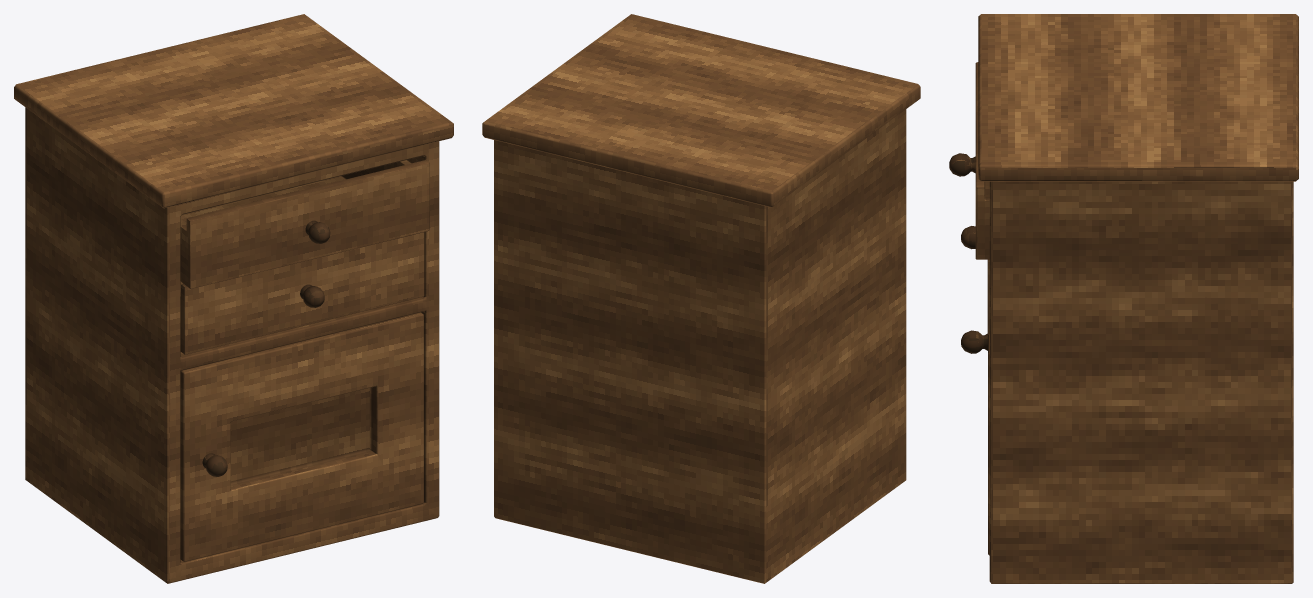
Rendered from side_table_psx.glb.
3 renders of one model, left to right at view 1: azimuth 30°, elevation 25°; view 2: azimuth 150°, elevation 25°; view 3: azimuth 270°, elevation 25°, orthographic. The views are drawn at different scales.
Parts seen in each view (by area): view 1: night_table_psx; view 2: night_table_psx; view 3: night_table_psx.
Part boxes in pixels (x1,y1,x2,y2): night_table_psx: (14,14,453,583); night_table_psx: (482,14,920,583); night_table_psx: (949,14,1298,583).
Size of the model in its own units: 0.6052 by 0.7858 by 0.5864.
1 material, 1 textured.
